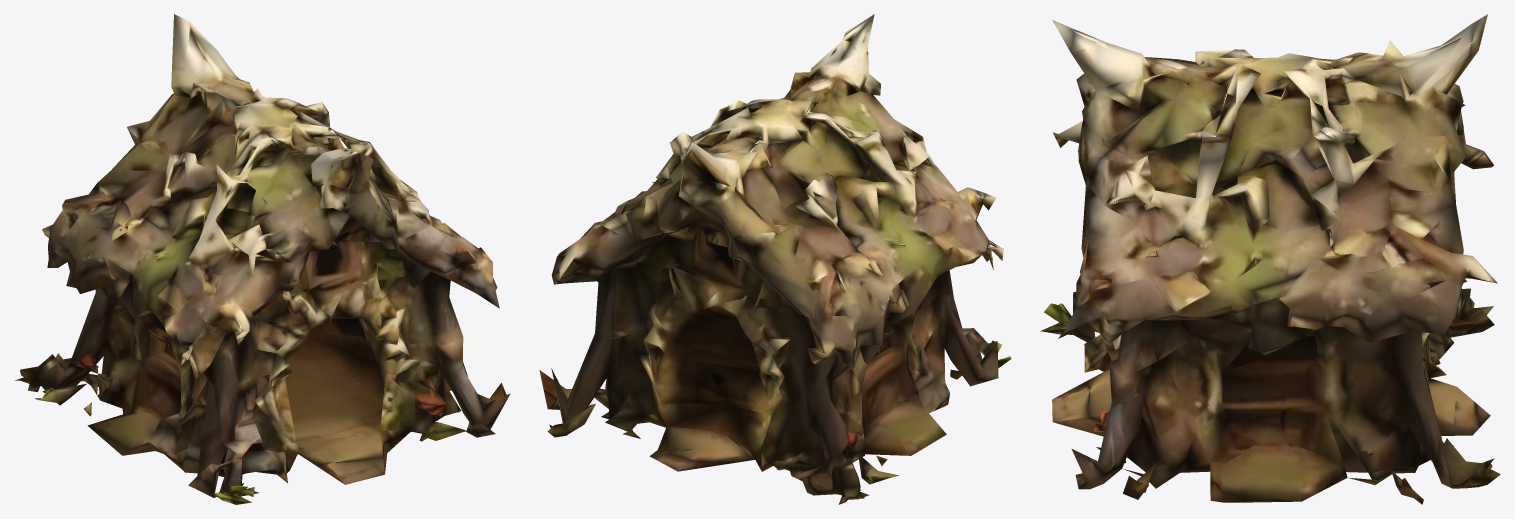
File: bonehut.glb
3 views of the same model, side by side, from view 1: azimuth 30°, elevation 25°; view 2: azimuth 150°, elevation 25°; view 3: azimuth 270°, elevation 25° (orthographic). The views are drawn at different scales.
Visible parts, largest first — view 1: tripo_node_4ea16047-6a38-4c1a-97d5-cd8ac1cd54a7; view 2: tripo_node_4ea16047-6a38-4c1a-97d5-cd8ac1cd54a7; view 3: tripo_node_4ea16047-6a38-4c1a-97d5-cd8ac1cd54a7.
Boxes of the visible parts, left/top/right/bottom form: tripo_node_4ea16047-6a38-4c1a-97d5-cd8ac1cd54a7: left=15, top=14, right=510, bottom=504; tripo_node_4ea16047-6a38-4c1a-97d5-cd8ac1cd54a7: left=539, top=14, right=1011, bottom=504; tripo_node_4ea16047-6a38-4c1a-97d5-cd8ac1cd54a7: left=1040, top=14, right=1500, bottom=504.
Size of the model in its own units: 0.9866 by 0.8591 by 0.9119.
Materials: 1 (1 with a texture image).
